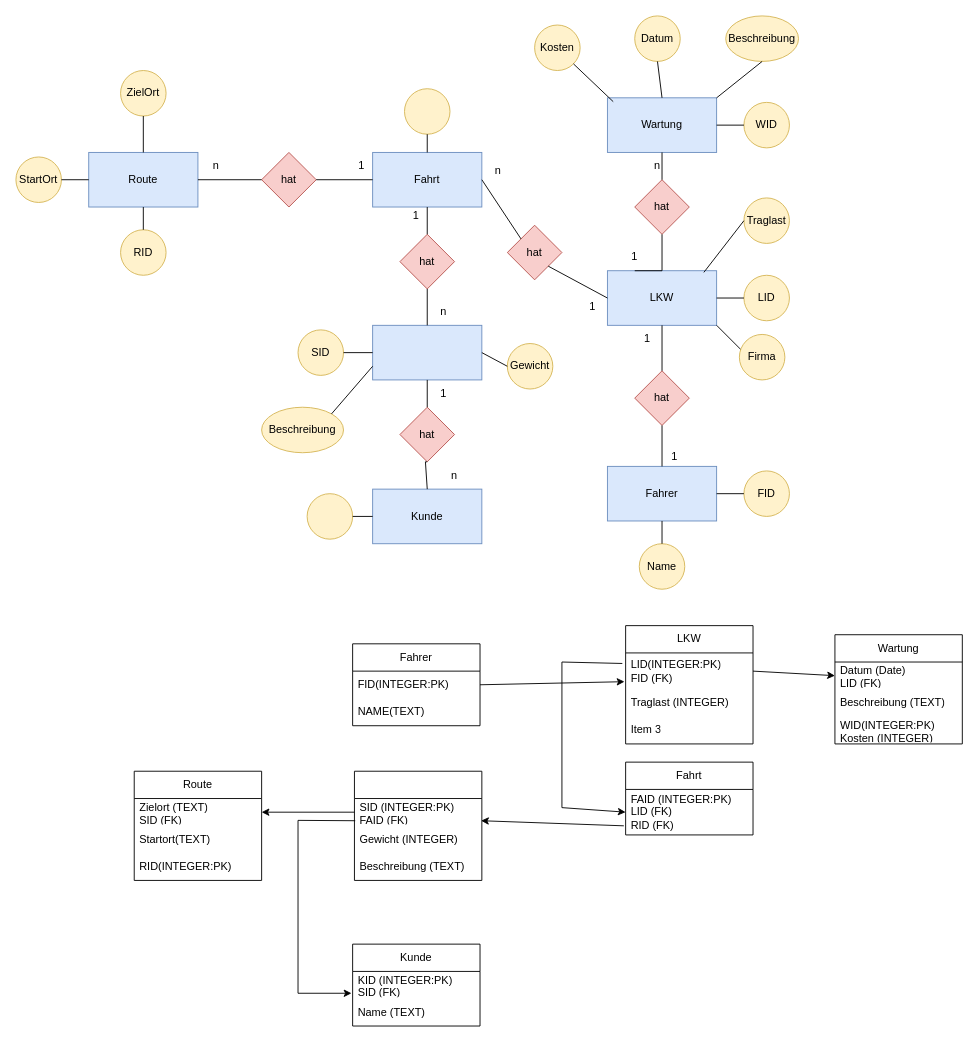
Some shapes in this 978 by 1042 pixel diagram are drawn without their labels. The box of each missing label's shape, as (x1, y1, x2, y2) in pixels:
FAID: (404, 88, 450, 134)
KID: (306, 493, 353, 539)
Sendung: (354, 770, 482, 880)
Sendungen: (372, 324, 482, 380)
